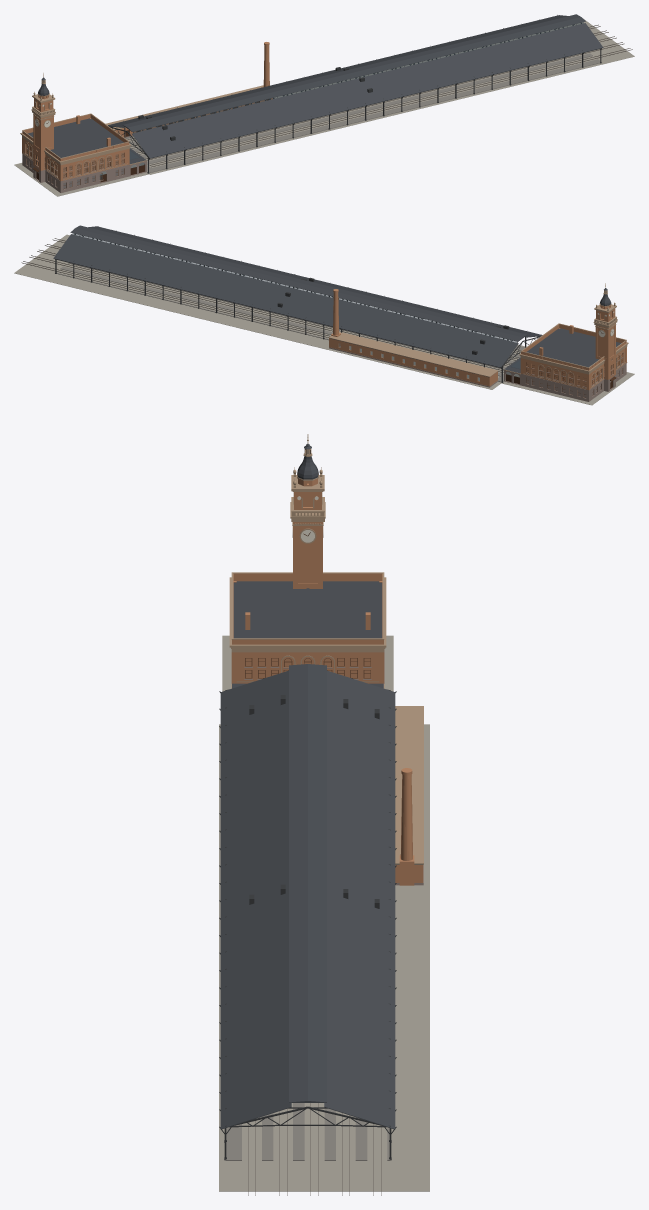
File: Minneapolis_Depot.glb
3 views of the same model, one above another, from view 1: azimuth 30°, elevation 25°; view 2: azimuth 150°, elevation 25°; view 3: azimuth 270°, elevation 25° (orthographic). The views are drawn at different scales.
Parts seen in each view (by area): view 1: roof, foundation, platform, brick, trim, steel, rails, stone, glass, sash, chimney, doors; view 2: roof, foundation, brick, trim, platform, stone, rails, steel, glass, sash, chimney; view 3: roof, foundation, brick, trim, platform, steel, chimney.
Part boxes in pixels (<box>): roof: <box>27,14,603,163</box>; foundation: <box>14,18,634,196</box>; platform: <box>125,53,601,173</box>; brick: <box>22,95,272,181</box>; trim: <box>20,73,263,179</box>; steel: <box>109,15,601,173</box>; rails: <box>127,24,632,167</box>; stone: <box>22,135,146,192</box>; glass: <box>36,22,583,188</box>; sash: <box>26,143,124,189</box>; chimney: <box>76,42,269,146</box>; doors: <box>33,99,270,182</box>; roof: <box>53,225,621,377</box>; foundation: <box>14,234,634,405</box>; brick: <box>329,305,626,390</box>; trim: <box>328,283,628,388</box>; platform: <box>55,262,524,382</box>; stone: <box>329,347,627,401</box>; rails: <box>21,238,519,372</box>; steel: <box>54,226,540,382</box>; glass: <box>72,233,612,381</box>; sash: <box>526,353,622,397</box>; chimney: <box>331,289,573,355</box>; roof: <box>220,444,422,1129</box>; foundation: <box>219,635,429,1191</box>; brick: <box>231,478,423,882</box>; trim: <box>229,434,423,864</box>; platform: <box>225,1103,390,1160</box>; steel: <box>219,689,396,1160</box>; chimney: <box>245,612,414,885</box>.
Size of the model in its own units: 8.46 by 1.47 by 1.35.
